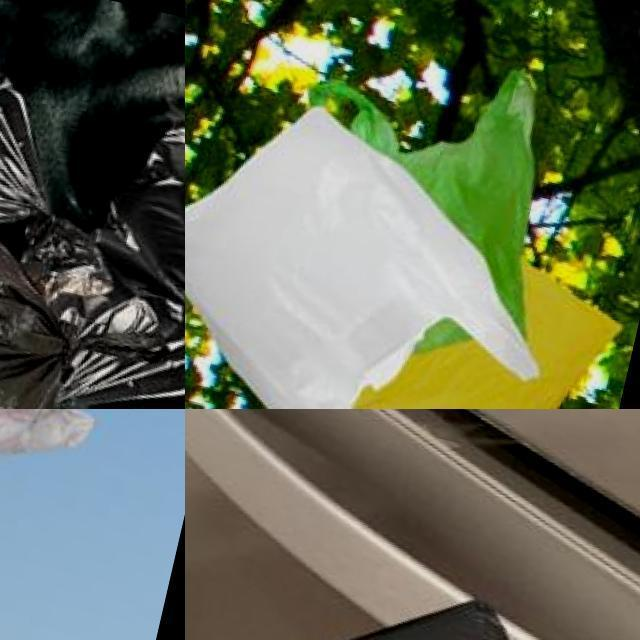waste: (185, 81, 568, 409), (246, 19, 586, 360), (28, 105, 185, 409), (349, 240, 617, 409), (273, 557, 540, 640), (0, 0, 93, 231), (0, 409, 118, 584), (0, 210, 97, 409), (0, 409, 124, 493)
